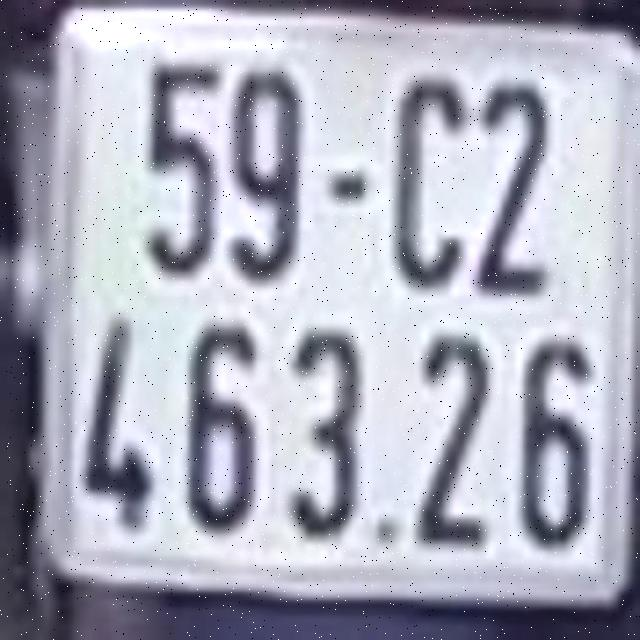2: (407, 332, 496, 558), (472, 82, 558, 307)
3: (283, 318, 373, 546)
4: (68, 308, 163, 542)
5: (135, 60, 223, 282)
6: (174, 312, 269, 542), (516, 328, 595, 557)
9: (221, 64, 306, 283)
C: (389, 73, 474, 293)
